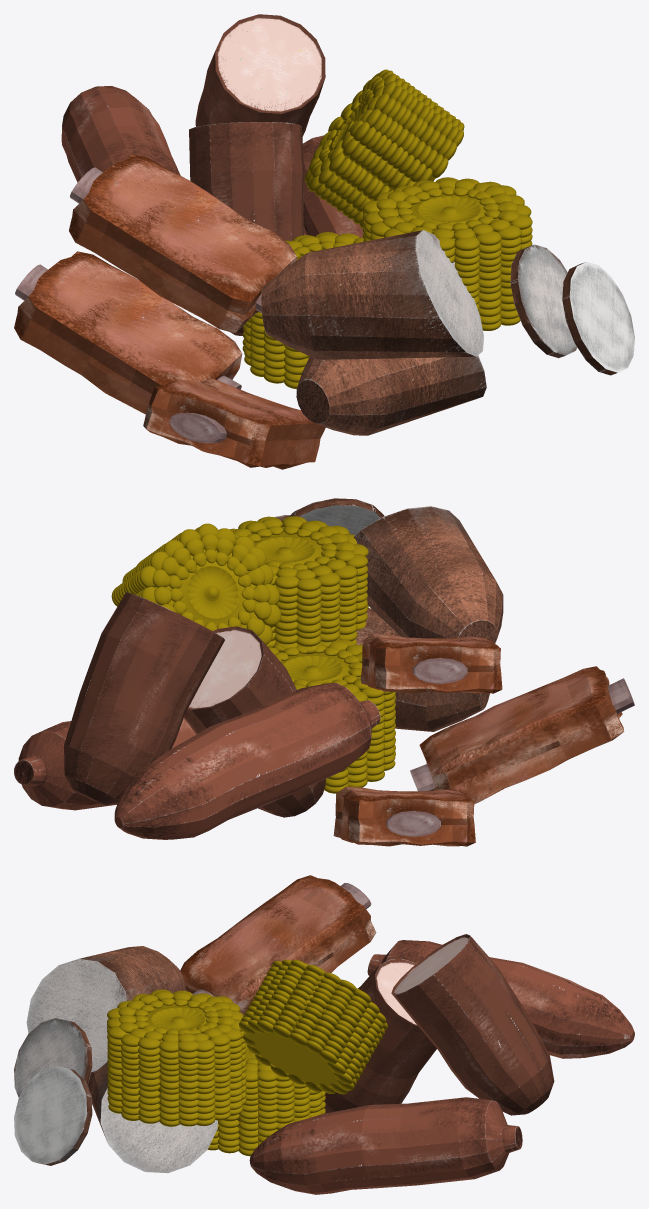
File: sancocho.glb
3 views of the same model, one above another, from view 1: azimuth 30°, elevation 25°; view 2: azimuth 150°, elevation 25°; view 3: azimuth 270°, elevation 25° (orthographic). The views are drawn at different scales.
Parts seen in each view (by area): view 1: ñame partido, costillla_para_texturizar_, costillla_para_texturizar_.001, Yuca_para_texturizar_, mazorca 2, mazorca 1, Yuca_para_texturizar_.001, ñame partido.001, costillla_para_texturizar_.002, mazorca 1 .001; view 2: Yuca_para_texturizar_, ñame partido, costillla_para_texturizar_.002, mazorca 1, Yuca_para_texturizar_.001, mazorca 2, costillla_para_texturizar_.001, costillla_para_texturizar_, mazorca 1 .001, ñame partido.001; view 3: Yuca_para_texturizar_.001, Yuca_para_texturizar_, ñame partido, mazorca 1, mazorca 2, costillla_para_texturizar_, mazorca 1 .001, ñame partido.001.
Part boxes in pixels (bbox=[...]): ñame partido: bbox=[261, 230, 634, 375]; costillla_para_texturizar_: bbox=[69, 154, 296, 333]; costillla_para_texturizar_.001: bbox=[14, 251, 242, 414]; Yuca_para_texturizar_: bbox=[61, 14, 325, 182]; mazorca 2: bbox=[304, 69, 464, 228]; mazorca 1: bbox=[362, 177, 532, 330]; Yuca_para_texturizar_.001: bbox=[189, 122, 363, 335]; ñame partido.001: bbox=[296, 355, 486, 435]; costillla_para_texturizar_.002: bbox=[143, 378, 325, 469]; mazorca 1 .001: bbox=[242, 232, 363, 388]; Yuca_para_texturizar_: bbox=[64, 592, 380, 839]; ñame partido: bbox=[274, 498, 503, 643]; costillla_para_texturizar_.002: bbox=[410, 666, 634, 804]; mazorca 1: bbox=[230, 516, 368, 654]; Yuca_para_texturizar_.001: bbox=[14, 626, 325, 817]; mazorca 2: bbox=[111, 523, 281, 644]; costillla_para_texturizar_.001: bbox=[333, 786, 475, 846]; costillla_para_texturizar_: bbox=[360, 633, 502, 693]; mazorca 1 .001: bbox=[268, 639, 395, 793]; ñame partido.001: bbox=[355, 608, 489, 731]; Yuca_para_texturizar_.001: bbox=[249, 959, 522, 1194]; Yuca_para_texturizar_: bbox=[367, 934, 634, 1115]; ñame partido: bbox=[14, 946, 185, 1165]; mazorca 1: bbox=[107, 989, 246, 1126]; mazorca 2: bbox=[239, 959, 387, 1094]; costillla_para_texturizar_: bbox=[180, 875, 376, 1015]; mazorca 1 .001: bbox=[207, 1044, 325, 1156]; ñame partido.001: bbox=[87, 1065, 217, 1173].
Bounding box in the file's own units: 7.46 × 4.57 × 10.39.
4 materials, 3 textured.
